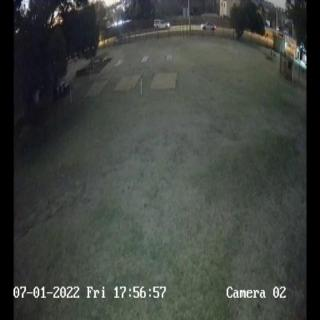car: (153, 19, 170, 29), (200, 22, 216, 32)
